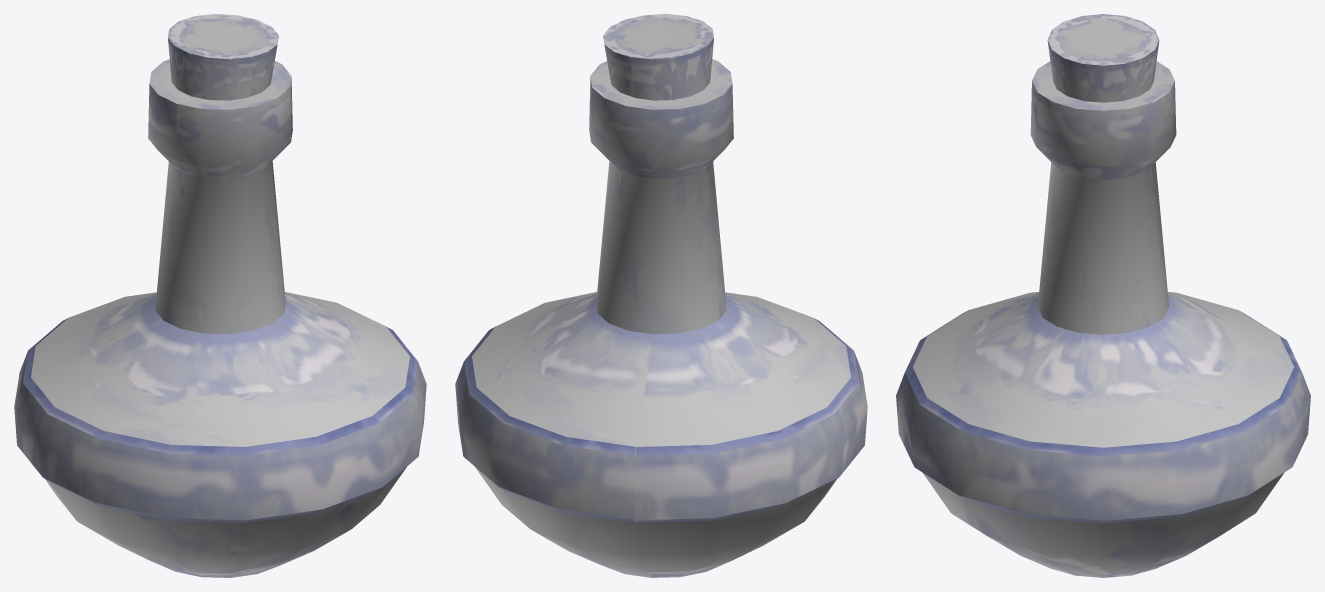
The model's file is Potion_4.fbx.
The picture shows the model from 3 angles, left to right: view 1: azimuth 30°, elevation 25°; view 2: azimuth 150°, elevation 25°; view 3: azimuth 270°, elevation 25°; orthographic projection.
Visible parts, largest first — view 1: Potion_4; view 2: Potion_4; view 3: Potion_4.
Boxes of the visible parts, x1,y1,x2,y2 form: Potion_4: (14, 14, 426, 577); Potion_4: (455, 14, 867, 577); Potion_4: (896, 14, 1310, 577).
Bounding box in the file's own units: 14.77 × 20.06 × 14.77.
